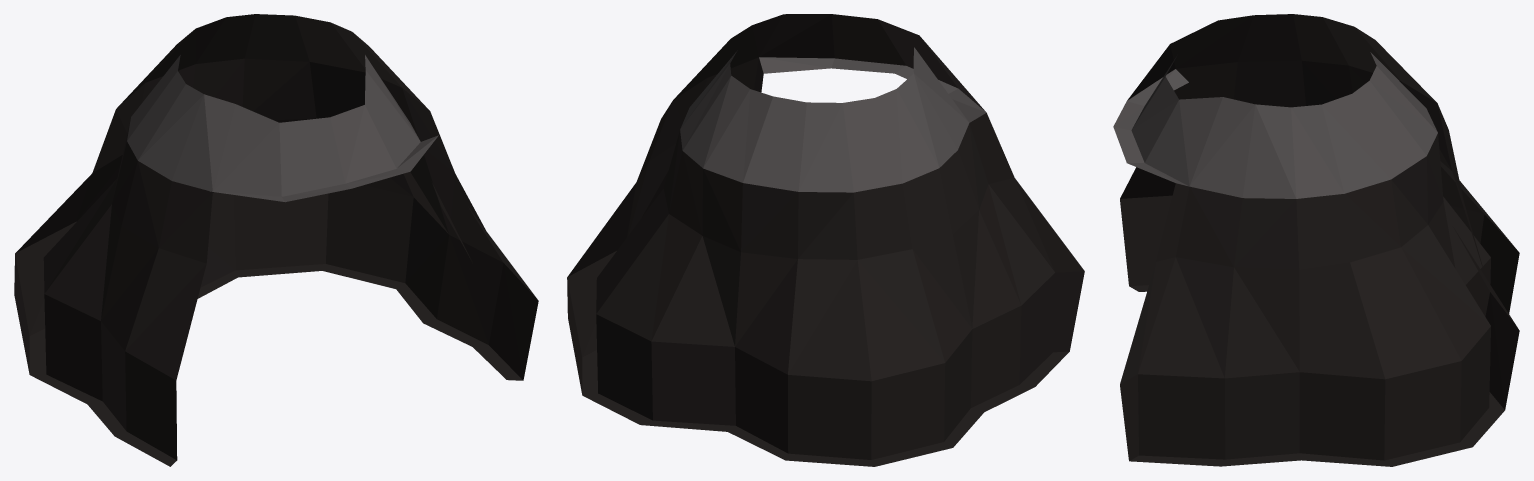
Rendered from hair_bob_01_hatcut.glb.
The picture shows the model from 3 angles, left to right: view 1: azimuth 30°, elevation 25°; view 2: azimuth 150°, elevation 25°; view 3: azimuth 270°, elevation 25°; orthographic projection. The views are drawn at different scales.
Parts seen in each view (by area): view 1: hair_bob_01_hatcut; view 2: hair_bob_01_hatcut; view 3: hair_bob_01_hatcut.
Boxes of the visible parts, x1,y1,x2,y2 form: hair_bob_01_hatcut: [14, 14, 538, 466]; hair_bob_01_hatcut: [567, 14, 1084, 466]; hair_bob_01_hatcut: [1113, 14, 1519, 466].
Size of the model in its own units: 0.4032 by 0.3033 by 0.3493.
Materials: 1 (1 with a texture image).
